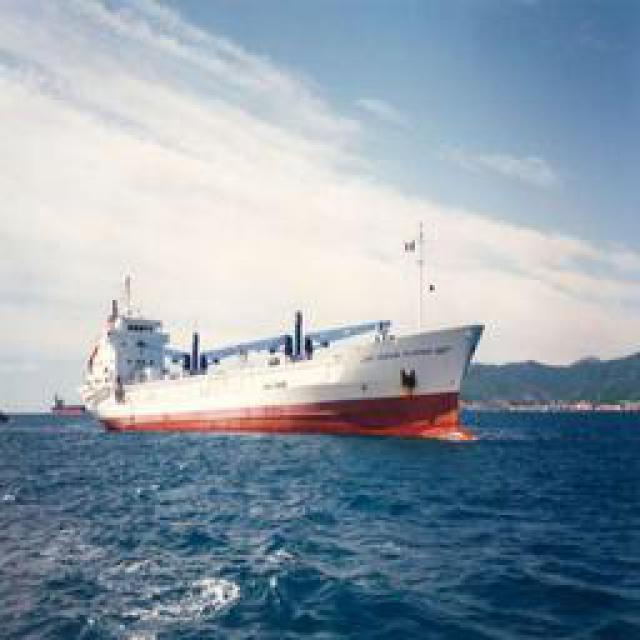Ship: (85, 296, 490, 439)
